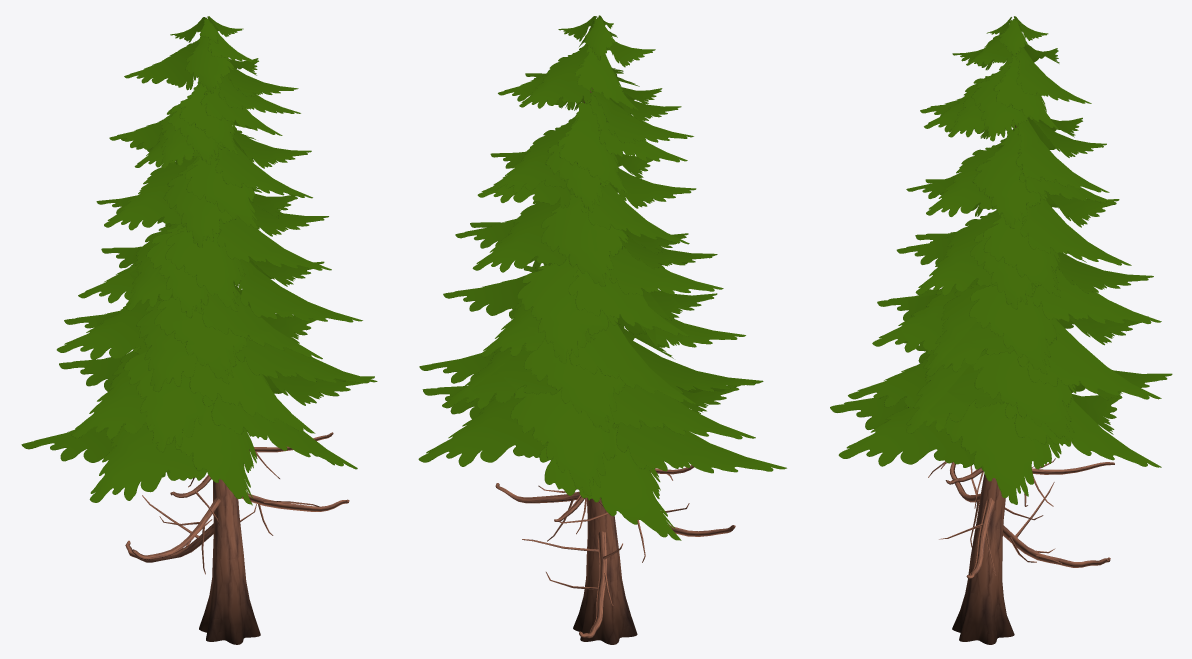
Rendered from Pine_4.glb.
The picture shows the model from 3 angles, left to right: view 1: azimuth 30°, elevation 25°; view 2: azimuth 150°, elevation 25°; view 3: azimuth 270°, elevation 25°; orthographic projection. The views are drawn at different scales.
Visible parts, largest first — view 1: Pine_4; view 2: Pine_4; view 3: Pine_4.
Boxes of the visible parts, x1,y1,x2,y2 form: Pine_4: [21, 16, 377, 644]; Pine_4: [418, 15, 786, 644]; Pine_4: [830, 16, 1172, 644].
Bounding box in the file's own units: 5.8 × 10.24 × 5.37.
2 materials, 2 textured.
